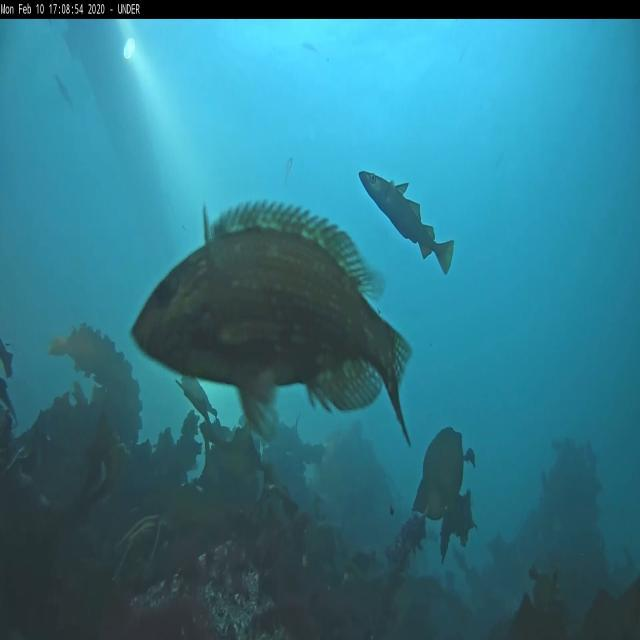fish: (130, 196, 416, 445), (358, 168, 453, 275), (54, 74, 68, 105), (284, 156, 292, 188)
